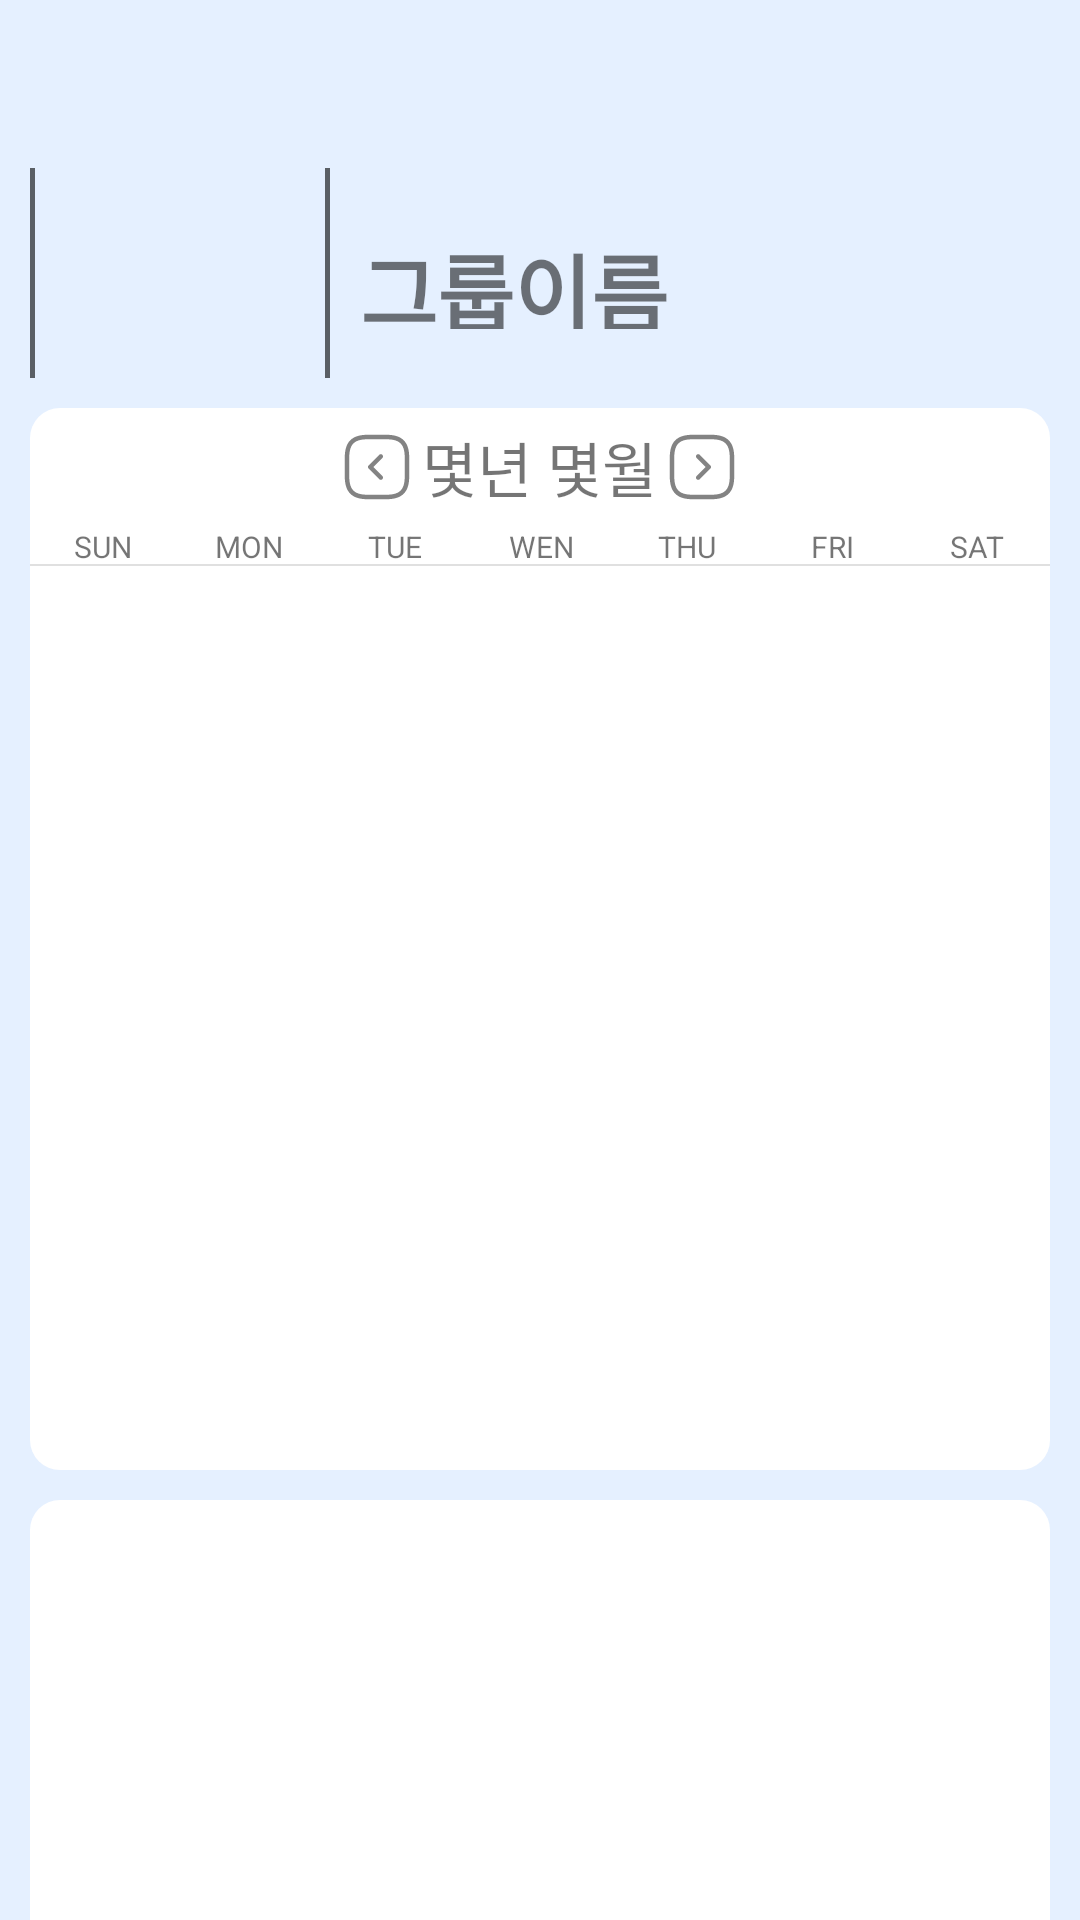

Named icons in this screenshot (1080*1920) and their bounding boxes, (x1, y1, x2, y2):
arrow square left: (344, 434, 410, 500)
arrow square right: (669, 434, 735, 500)
